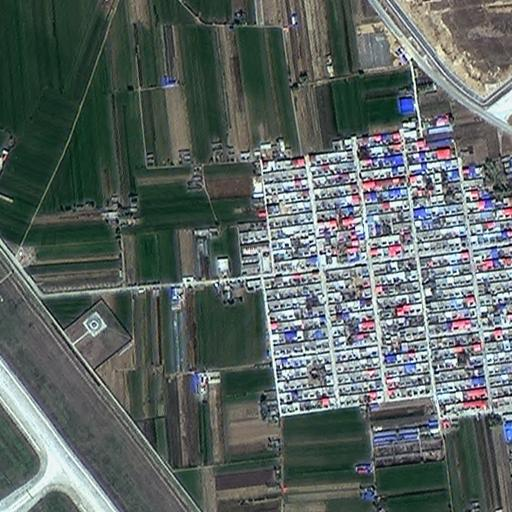school: (240, 227, 273, 278)
